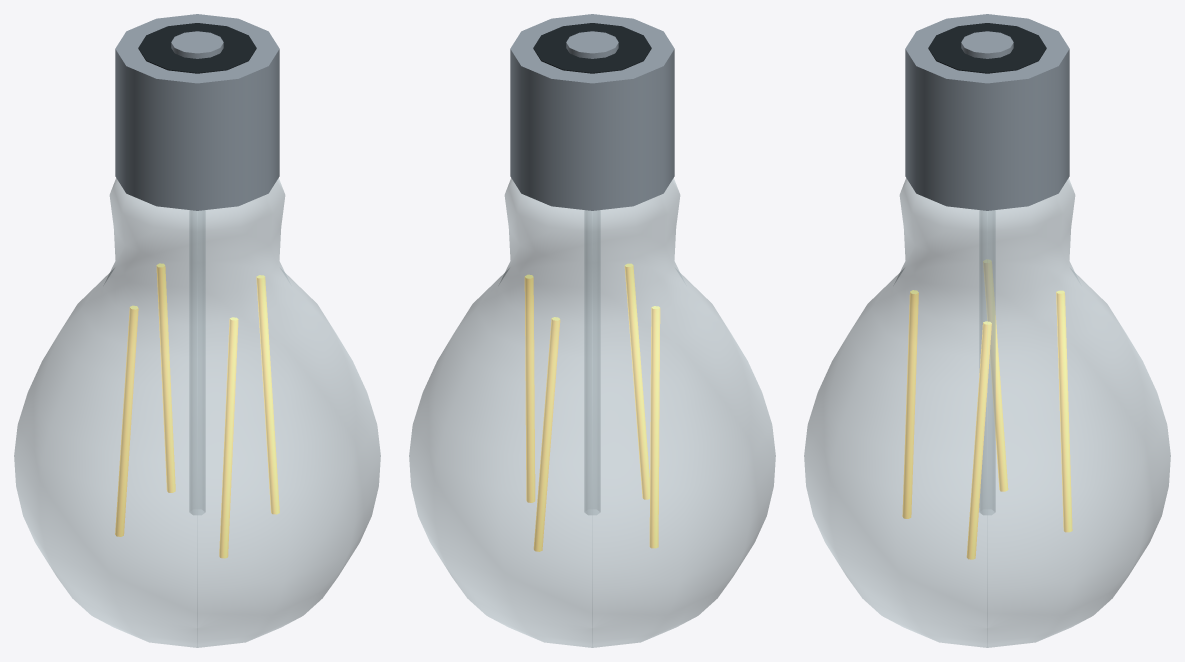
Rendered from source.glb.
3 views of the same model, side by side, from view 1: azimuth 30°, elevation 25°; view 2: azimuth 150°, elevation 25°; view 3: azimuth 270°, elevation 25° (orthographic).
Visible parts, largest first — view 1: 光学透明件, 机加工金属, Emitters, 密封及绝缘件; view 2: 光学透明件, 机加工金属, Emitters, 密封及绝缘件; view 3: 光学透明件, 机加工金属, Emitters, 密封及绝缘件.
Part boxes in pixels (x1,y1,x2,y2): 光学透明件: (14,178,380,647); 机加工金属: (115,14,279,210); Emitters: (115,263,279,558); 密封及绝缘件: (138,23,256,73); 光学透明件: (409,178,775,647); 机加工金属: (510,14,674,210); Emitters: (524,263,660,551); 密封及绝缘件: (533,23,651,73); 光学透明件: (804,178,1170,647); 机加工金属: (905,14,1069,210); Emitters: (902,259,1072,559); 密封及绝缘件: (928,23,1046,73).
Bounding box in the file's own units: 0.0602 × 0.1062 × 0.0602.
